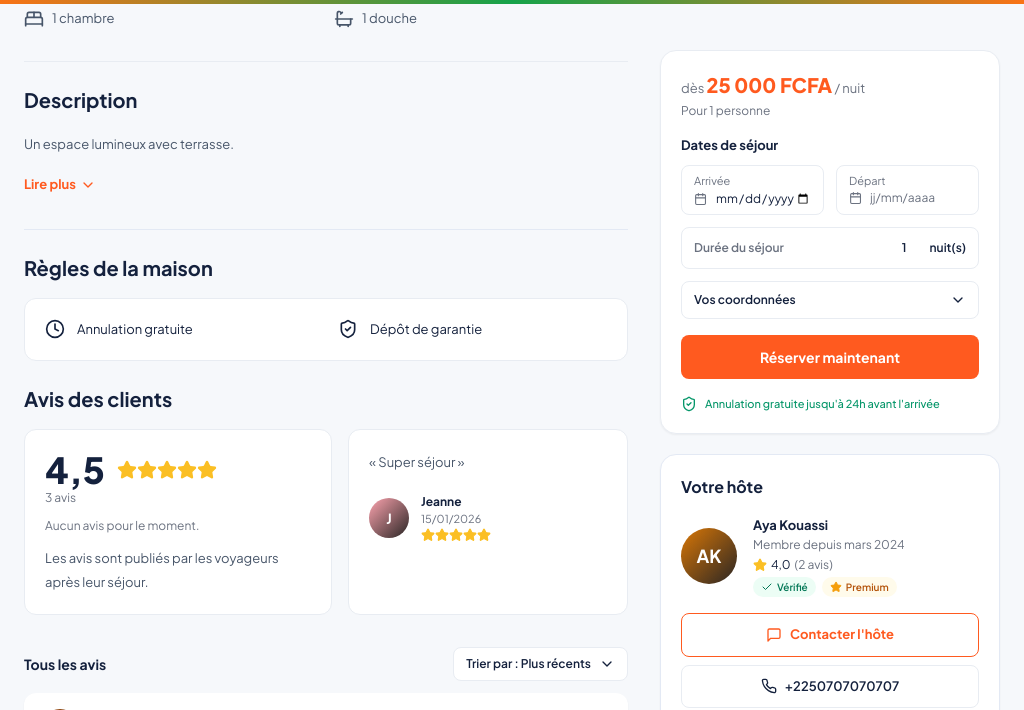
Test: RoomDetailMaq7 — contact de l’hôte › affiche une erreur si l’ouverture de la discussion échoue
(page scrolled)
Click the button "Contacter l'hôte".
click(830, 635)  # box x1=681 y1=614 x2=979 y2=657
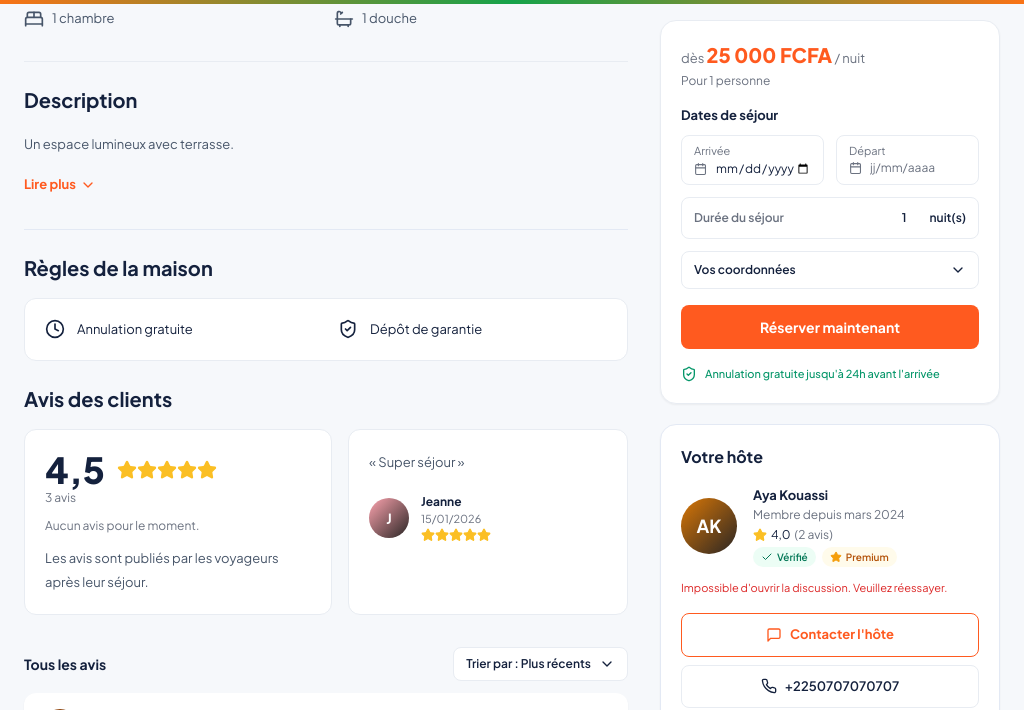
Result: the text "Impossible d'ouvrir la discussion. Veuillez réessayer." is shown at x1=681 y1=579 x2=979 y2=598
